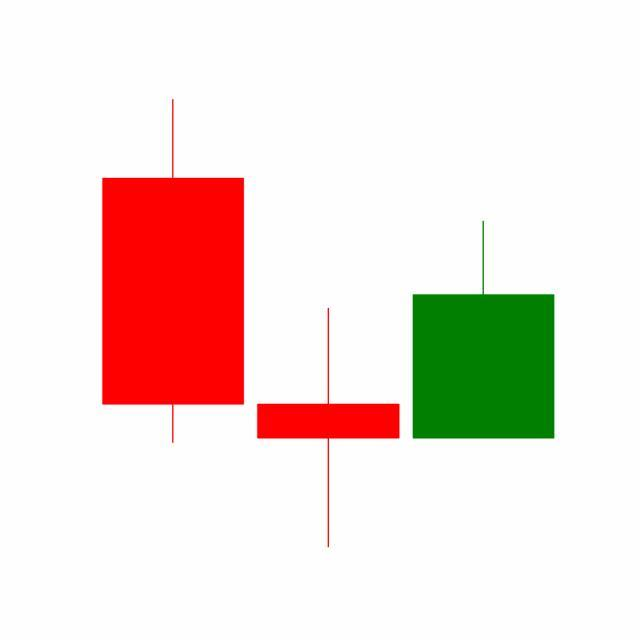Spinning Top: (250, 306, 407, 552)
